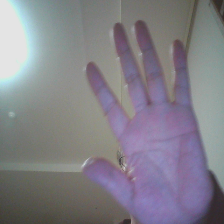hand: (85, 17, 214, 219)
